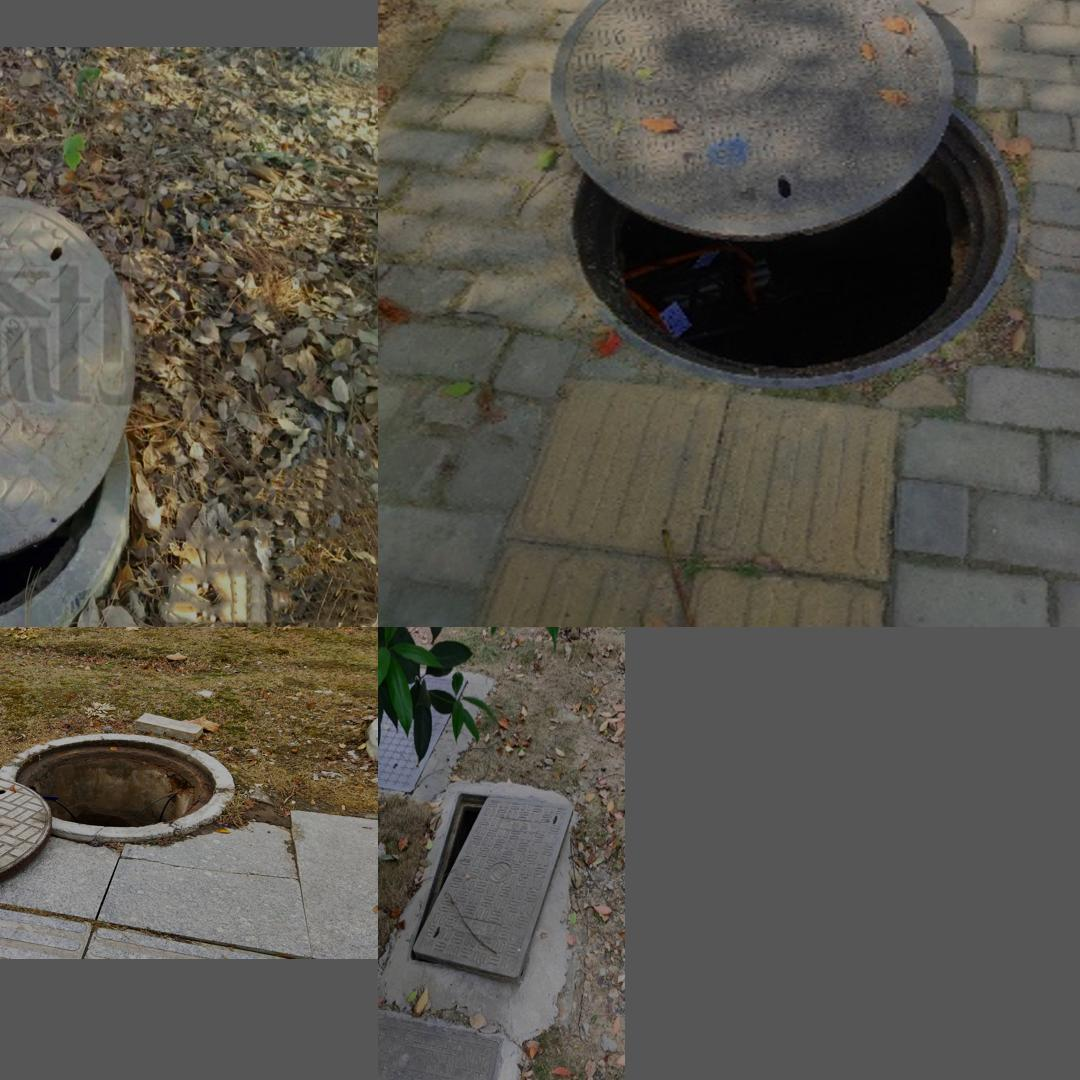good: (378, 1011, 503, 1080)
uncovered: (545, 0, 1020, 386), (0, 193, 133, 627), (0, 733, 235, 903), (402, 787, 575, 988)
